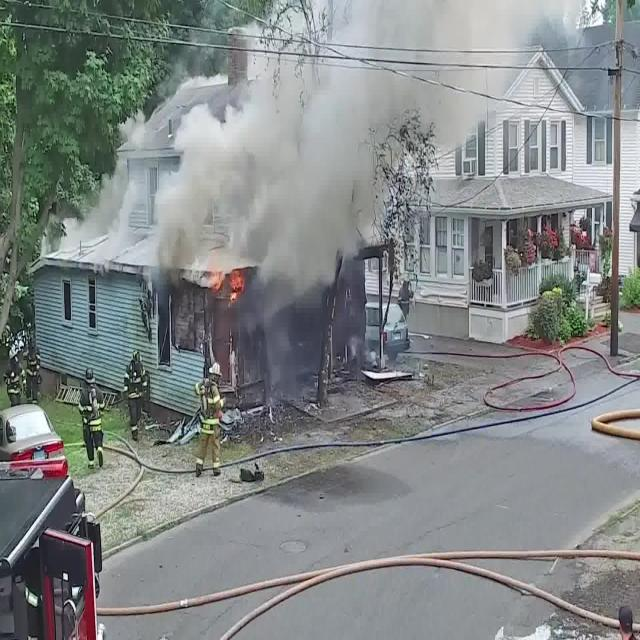Fire: (210, 266, 247, 304)
Smoke: (43, 0, 585, 345)
